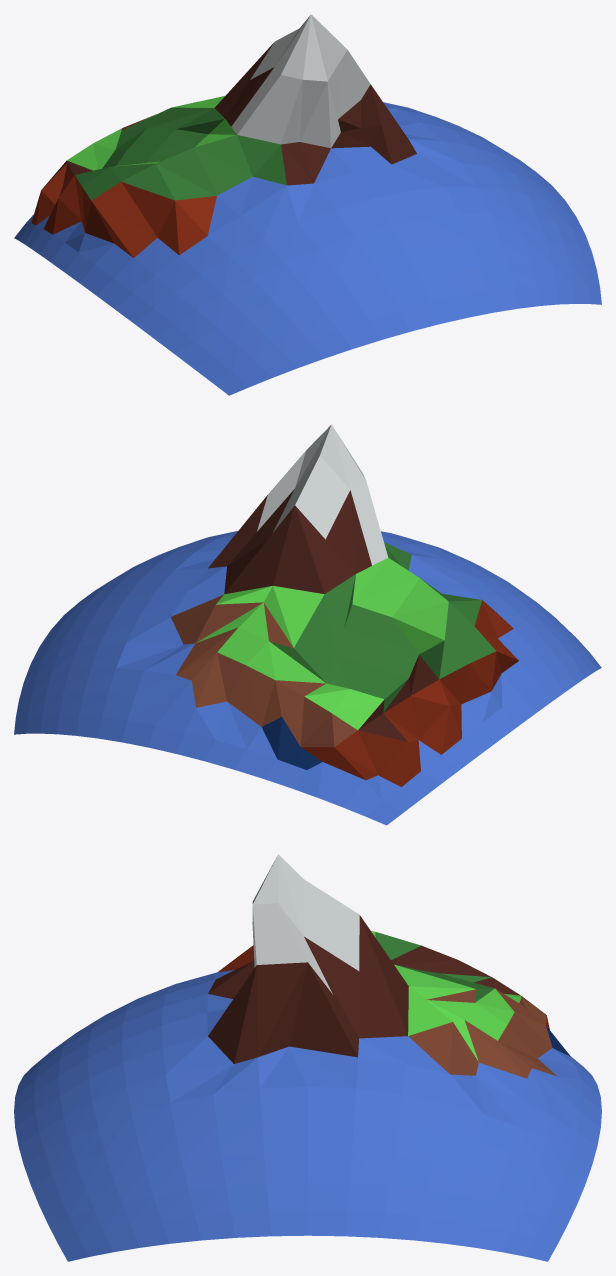
Rendered from CubePart004.fbx.
3 renders of one model, top to bottom at view 1: azimuth 30°, elevation 25°; view 2: azimuth 150°, elevation 25°; view 3: azimuth 270°, elevation 25°, orthographic. The views are drawn at different scales.
Parts seen in each view (by area): view 1: Cube.007; view 2: Cube.007; view 3: Cube.007.
Boxes of the visible parts, bbox=[...] form: Cube.007: bbox=[14, 14, 601, 395]; Cube.007: bbox=[14, 424, 601, 825]; Cube.007: bbox=[14, 854, 601, 1261].
Size of the model in its own units: 181 by 102 by 181.
